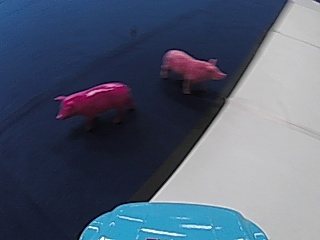pig: (49, 77, 137, 125), (160, 46, 226, 93)
